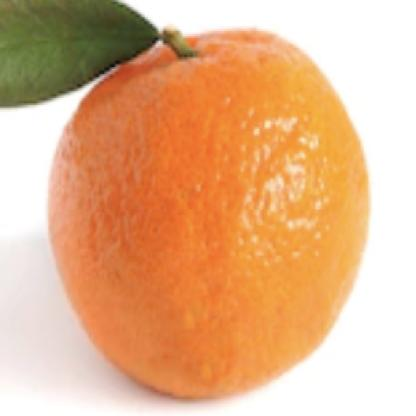fresh: (48, 33, 370, 405)
